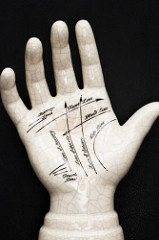palm: (18, 99, 132, 183)
